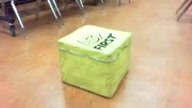cube: (57, 24, 133, 99)
